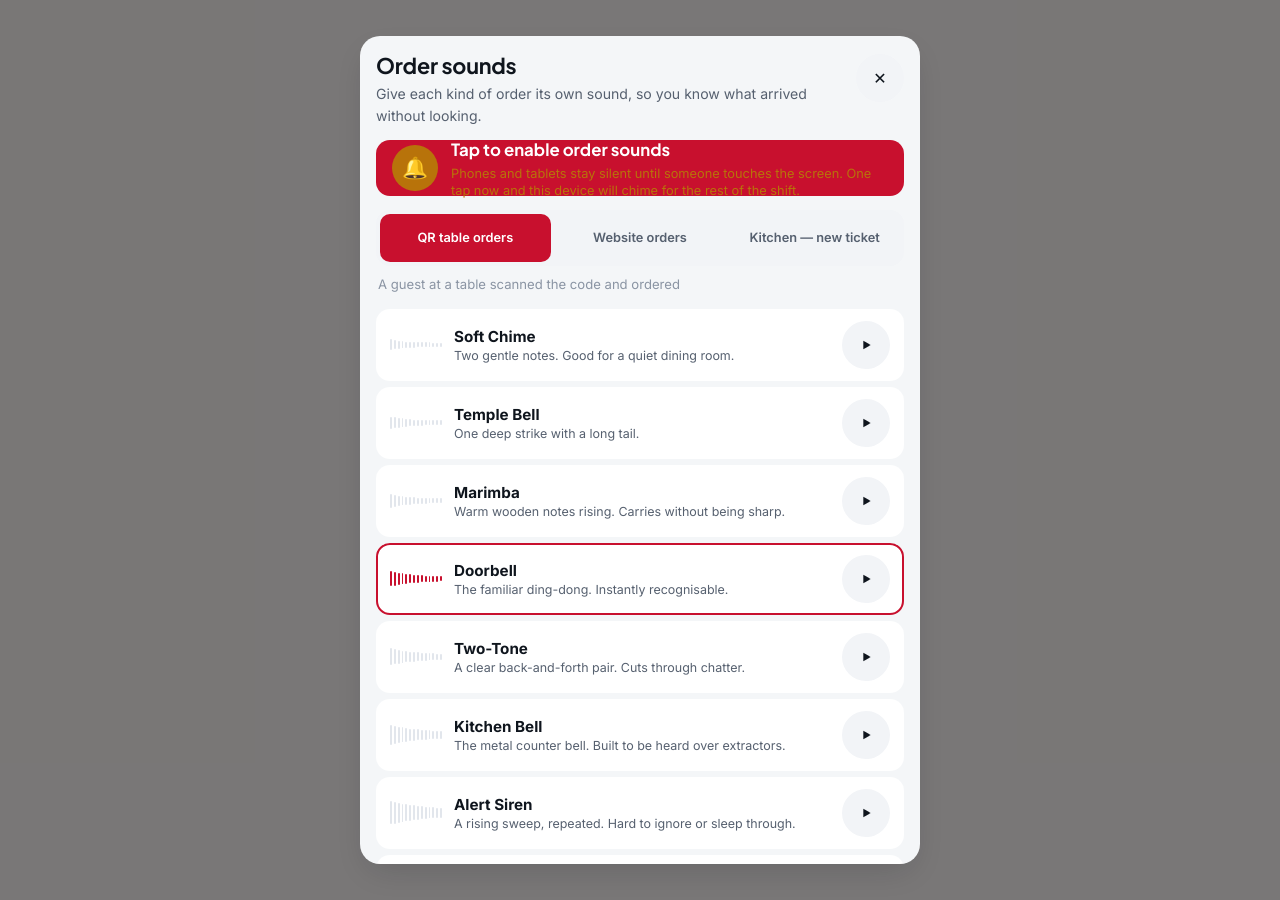
Test case: per-channel settings › volume is per channel and shown as a percentage
The width and height of the screenshot is (1280, 900).
Click the tab "Kitchen — new ticket": click(815, 238) left=729, top=214, right=900, bottom=262
(page scrolled)
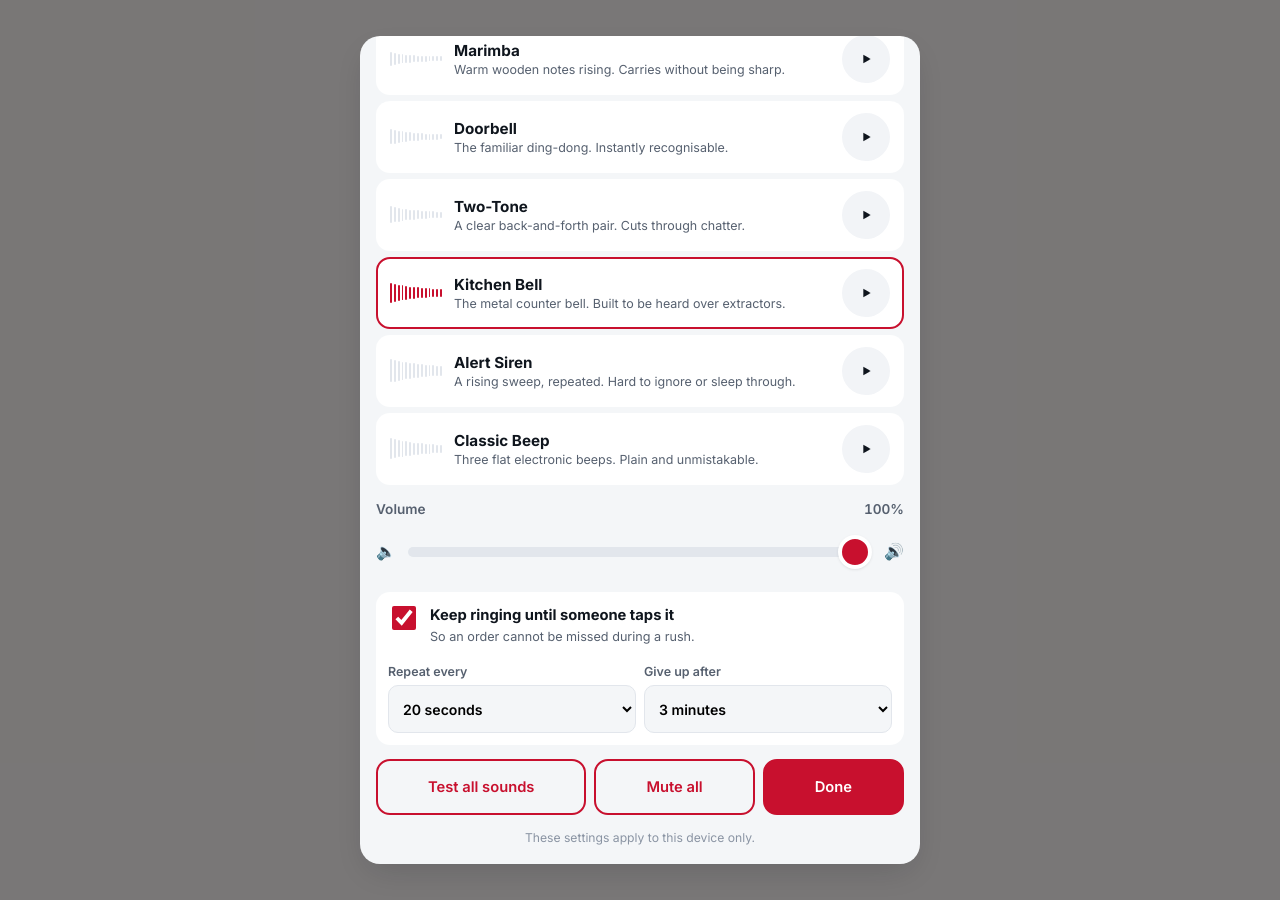
Expected: the text "100%" is shown, left=864, top=499, right=904, bottom=520
